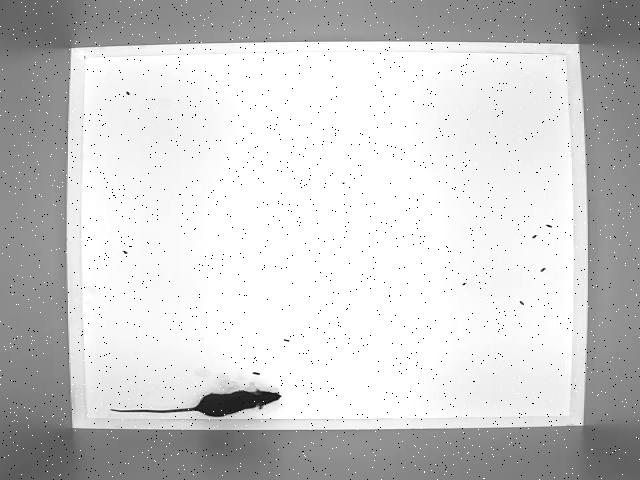Tikus: (108, 385, 284, 419)
